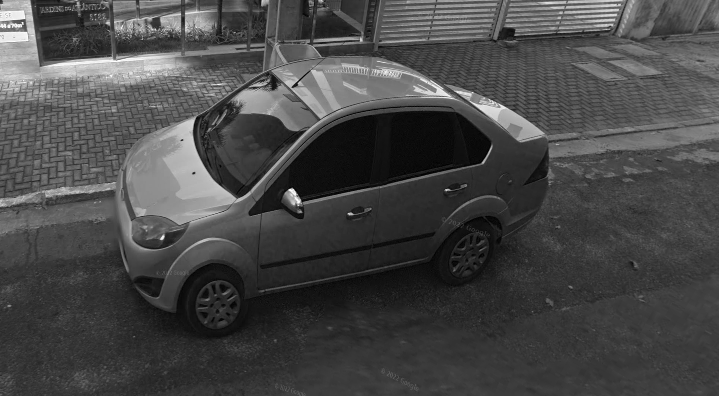car: (108, 38, 559, 341)
